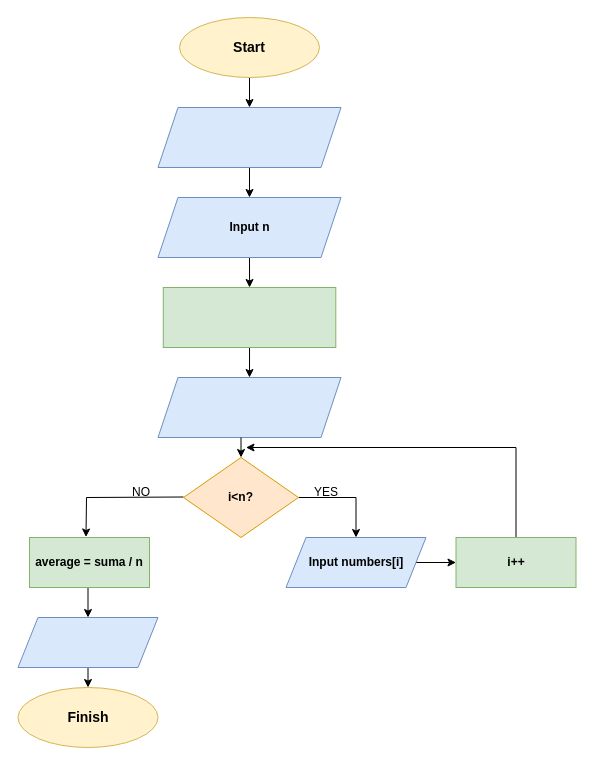
Image size: 593x765. Some labels were removed from this diagram. The shapes that lost their labels are listed below. From the top down, each one's centre as x and y in pixels, then its label:
pixel 249 137: Output "Введіть кількість членів послідовності:"
pixel 249 317: suma = 0
pixel 249 407: Output "Введіть члени послідовності:"
pixel 87 642: "Середнє арифметичне:", average
